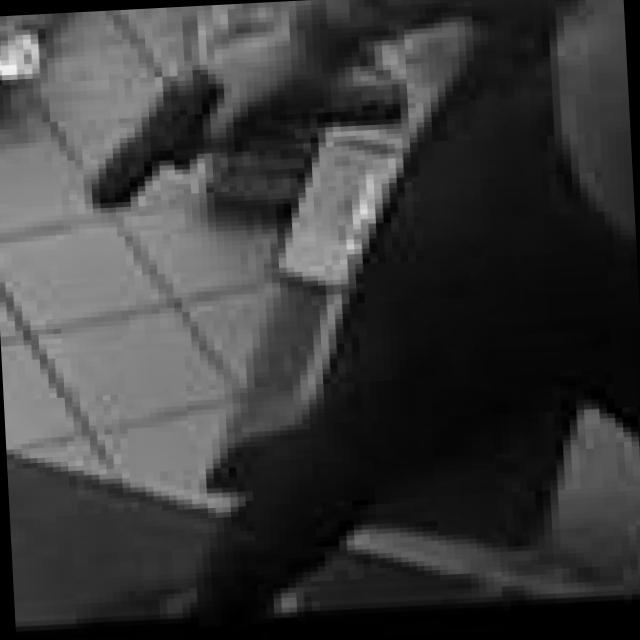Guns: (56, 13, 330, 240)
